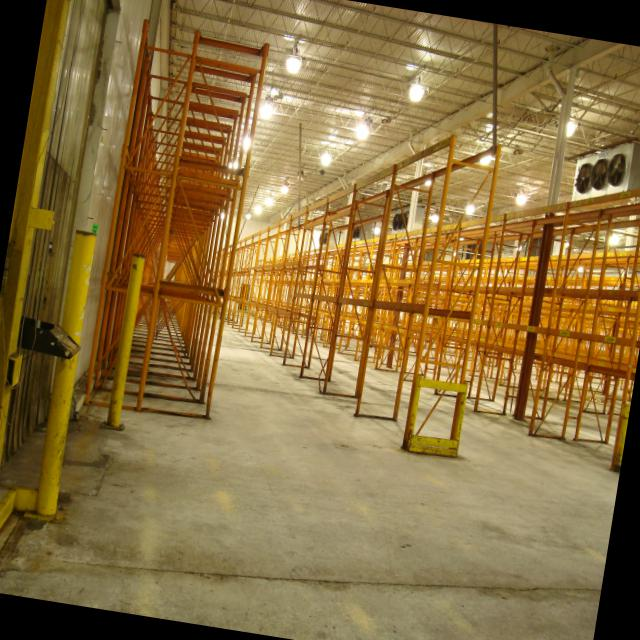air conditioning: (570, 140, 640, 202)
ceiling beam: (166, 0, 640, 244)
column occluded: (513, 68, 579, 421)
door opening: (238, 285, 250, 310)
floor -X: (0, 305, 632, 640)
lamp crop: (286, 34, 302, 74), (408, 77, 424, 101)
pole: (35, 231, 97, 516), (106, 253, 145, 426)
shelves crop: (205, 134, 500, 456), (86, 17, 268, 416)
sheslves: (229, 187, 640, 467)
wall clock: (153, 204, 379, 336)
